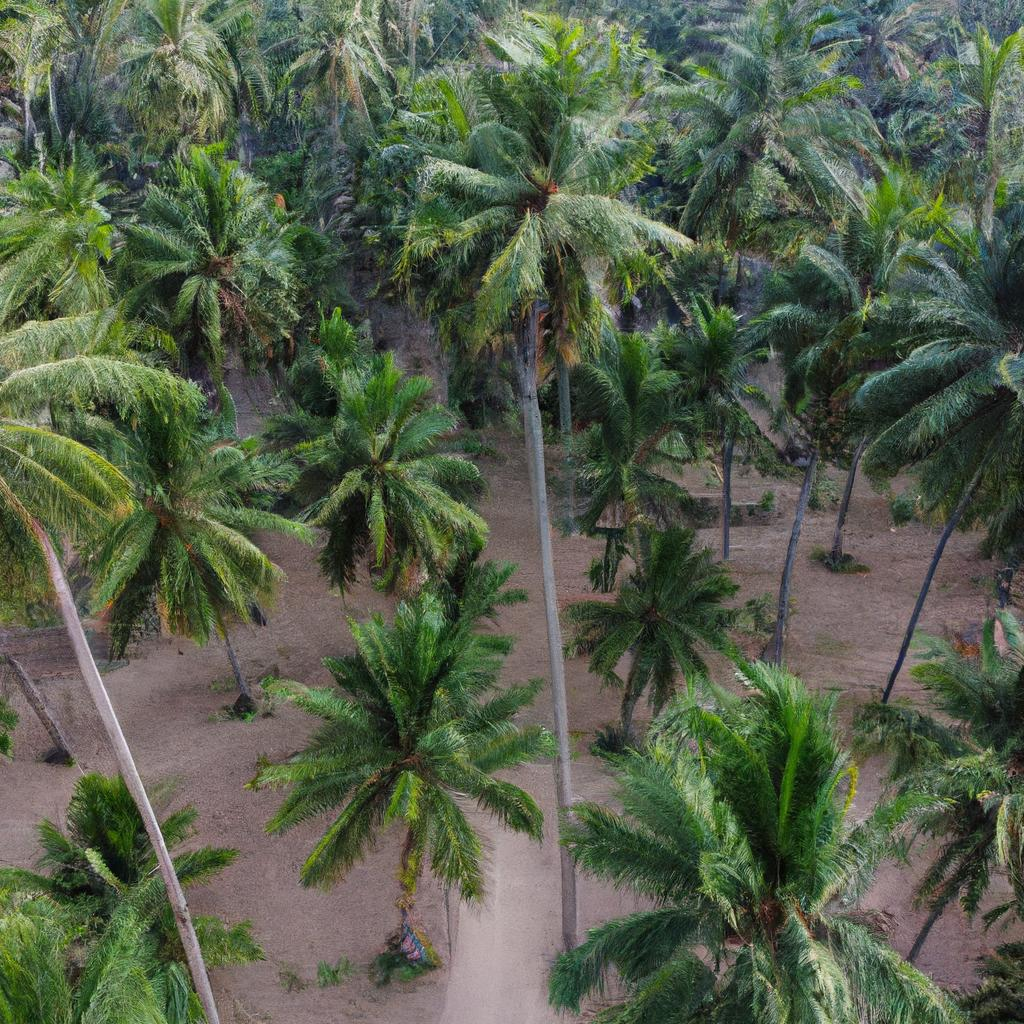coconut_tree: (578, 694, 978, 1023), (405, 102, 697, 378), (302, 581, 551, 893), (62, 362, 286, 634), (120, 132, 343, 354), (283, 345, 496, 566), (591, 537, 788, 693)
